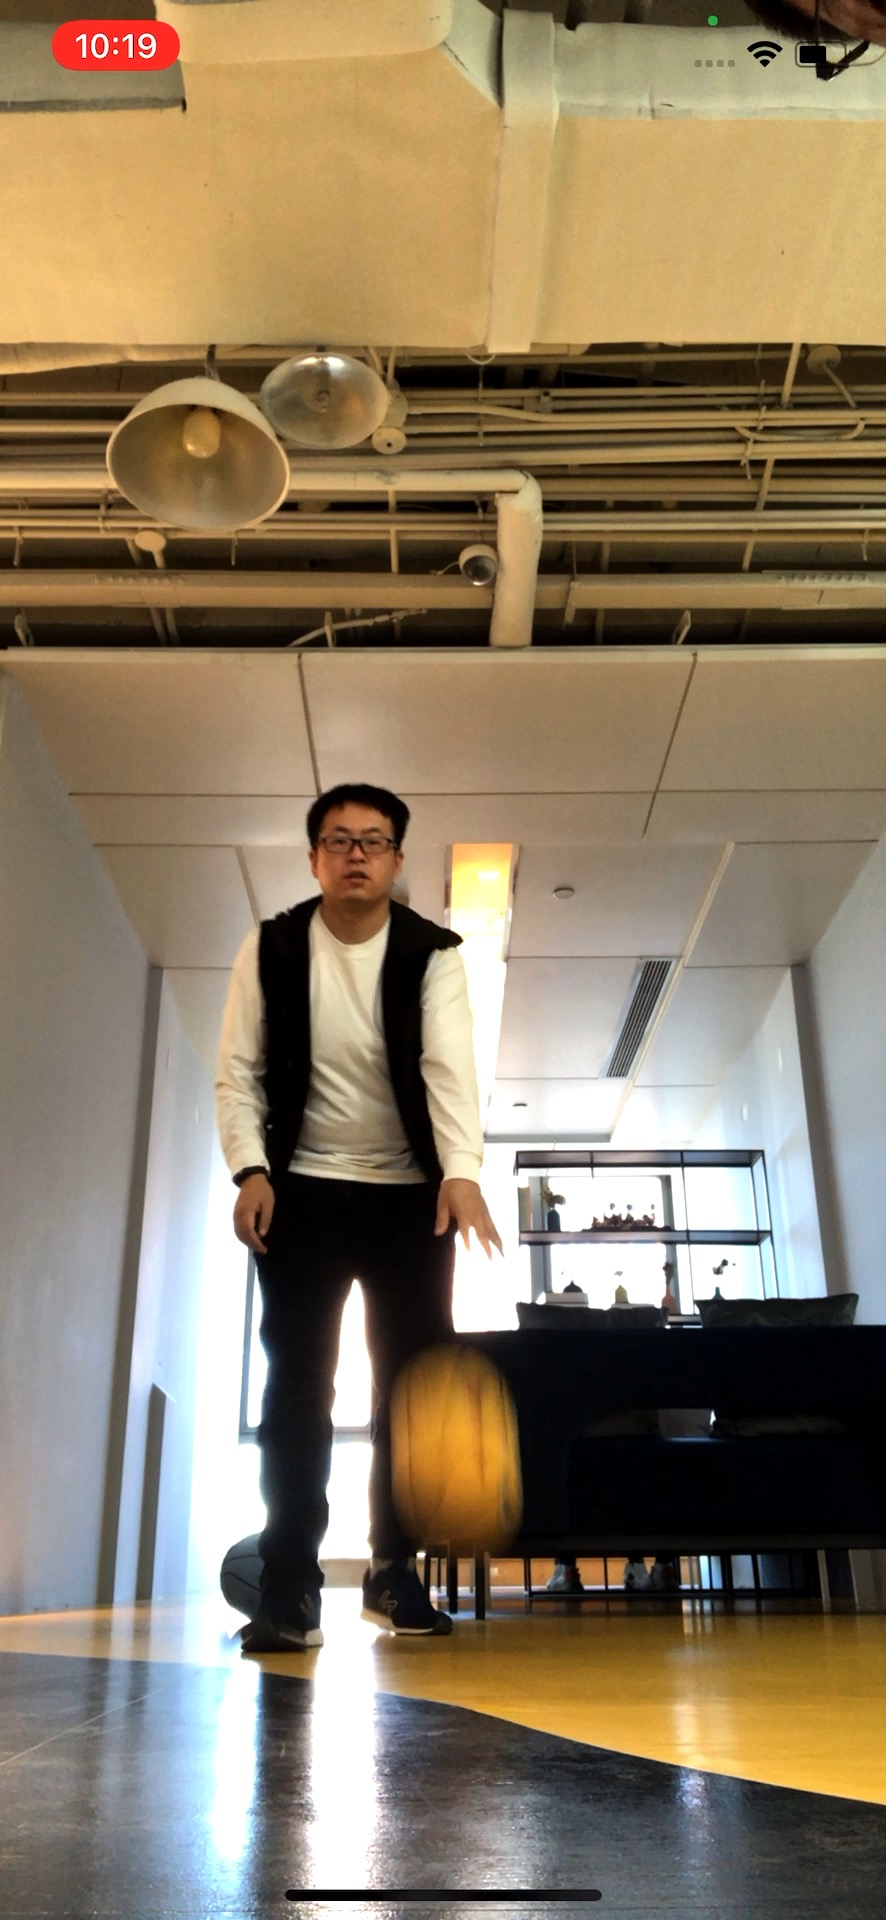ball: (394, 1356, 531, 1547)
